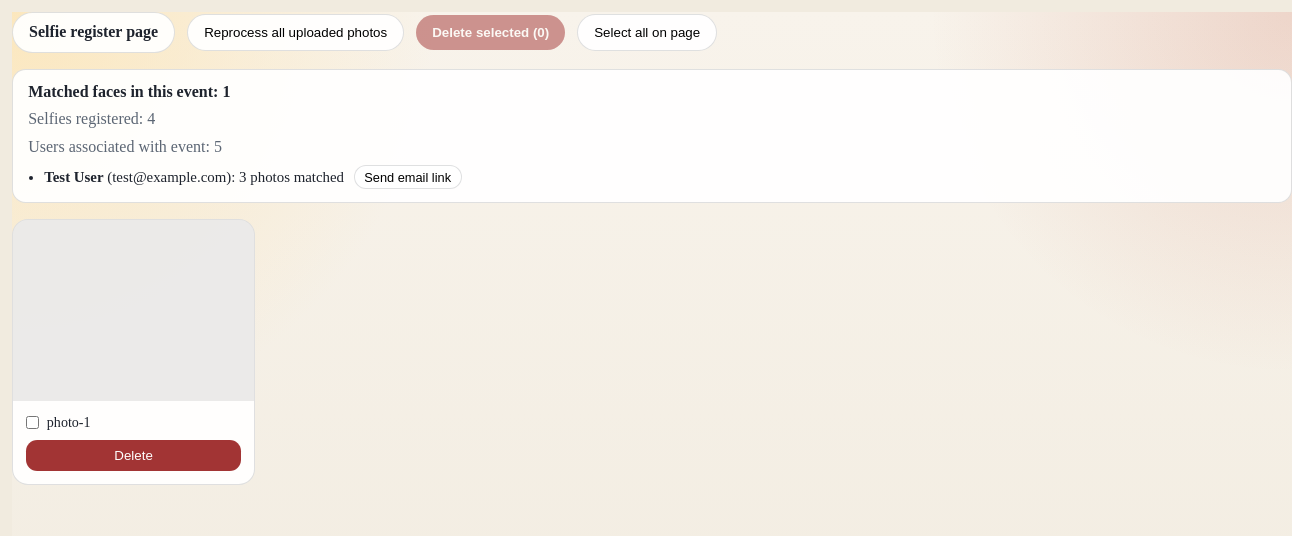
Test: photos manager › sends an individual email link for a matched attendee
Click the button "Send email link" at (408, 177), box x1=354 y1=165 x2=462 y2=189
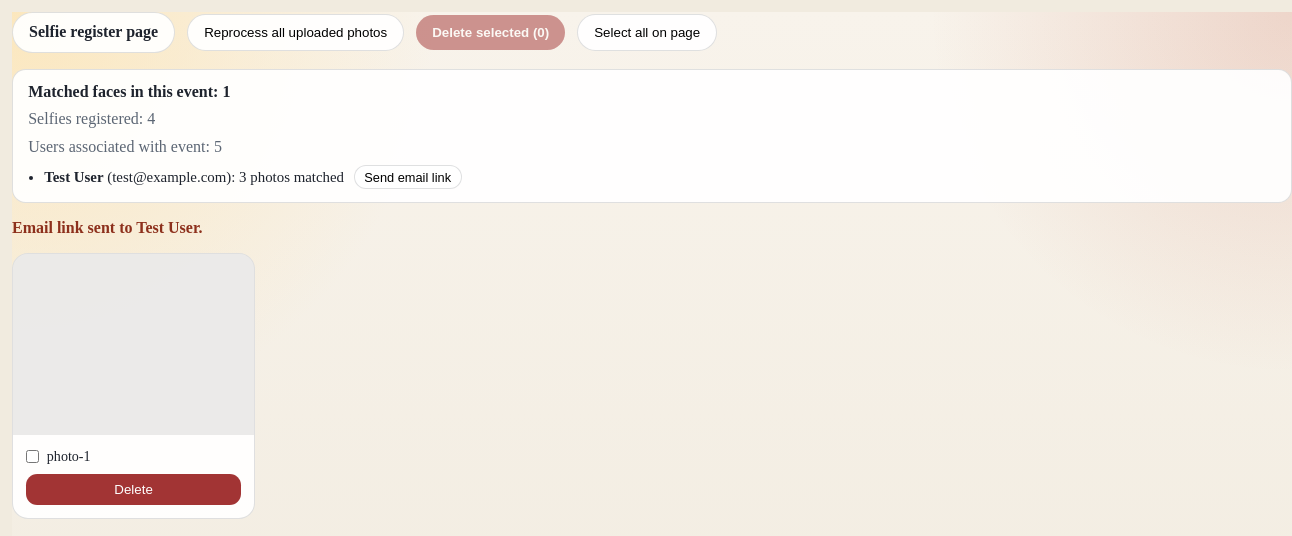
Check: the text "Email link sent to Test User." is shown, box x1=12 y1=219 x2=202 y2=236
